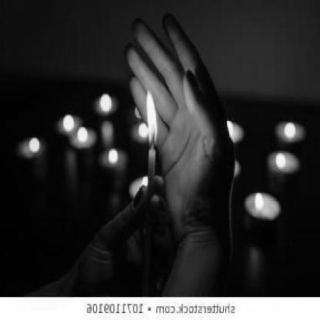Fire: (139, 80, 162, 151)
